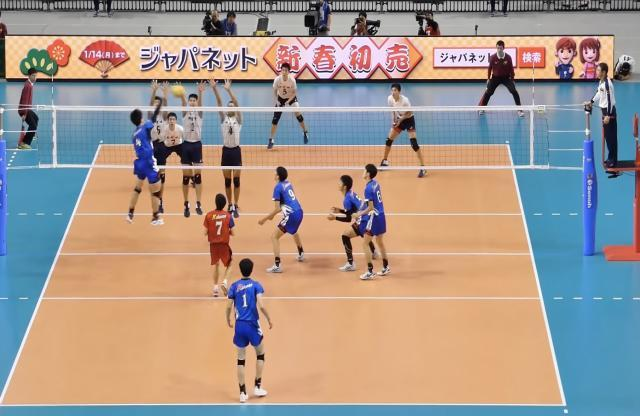spike: (123, 92, 170, 233)
